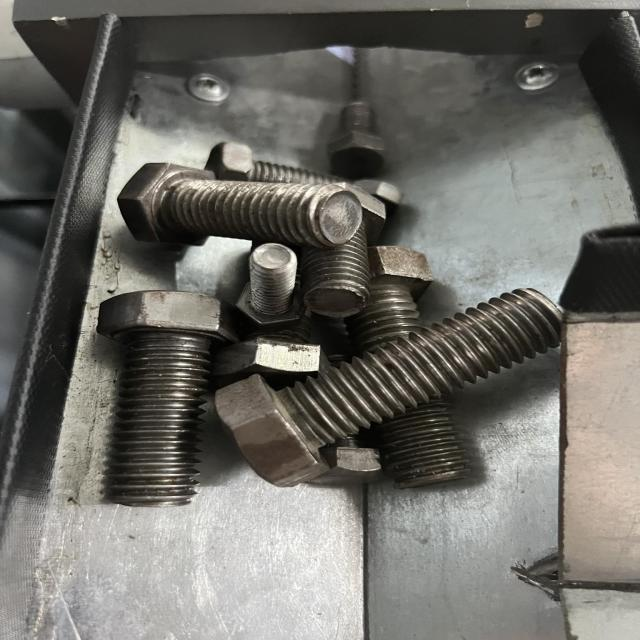bolt: (227, 284, 584, 488), (93, 288, 224, 504), (113, 157, 366, 251)
